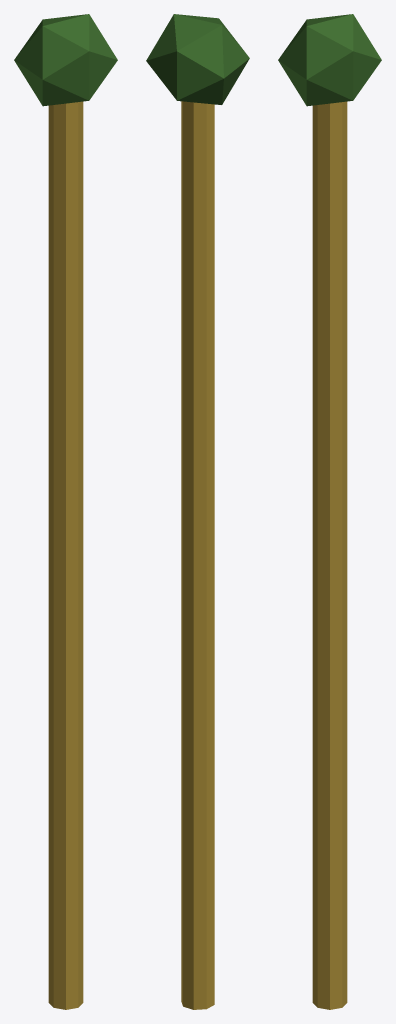
Rendered from magic_staff01.fbx.
3 views of the same model, side by side, from view 1: azimuth 90°, elevation 25°; view 2: azimuth 210°, elevation 25°; view 3: azimuth 270°, elevation 25° (orthographic).
Parts seen in each view (by area): view 1: staff, gem; view 2: staff, gem; view 3: staff, gem.
Part boxes in pixels (x1,y1,x2,y2): staff: (48, 101, 83, 1009); gem: (14, 14, 117, 106); staff: (181, 101, 214, 1009); gem: (146, 14, 249, 104); staff: (312, 101, 347, 1009); gem: (278, 14, 381, 106).
Bounding box in the file's own units: 10.73 × 125 × 12.
